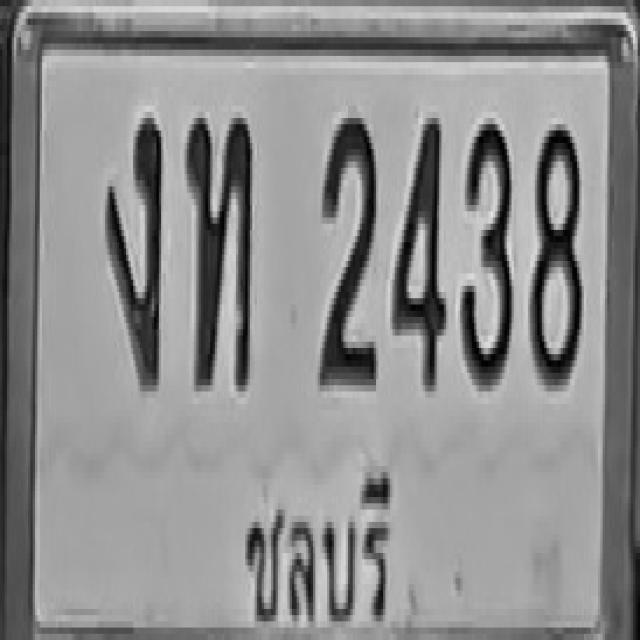16NgorNgu: (104, 109, 162, 388)
2: (318, 109, 376, 382)
3: (460, 118, 512, 385)
32ThorThaHan: (186, 109, 253, 388)
4: (390, 109, 446, 388)
8: (530, 118, 582, 385)
Chonburi: (234, 435, 397, 640)
